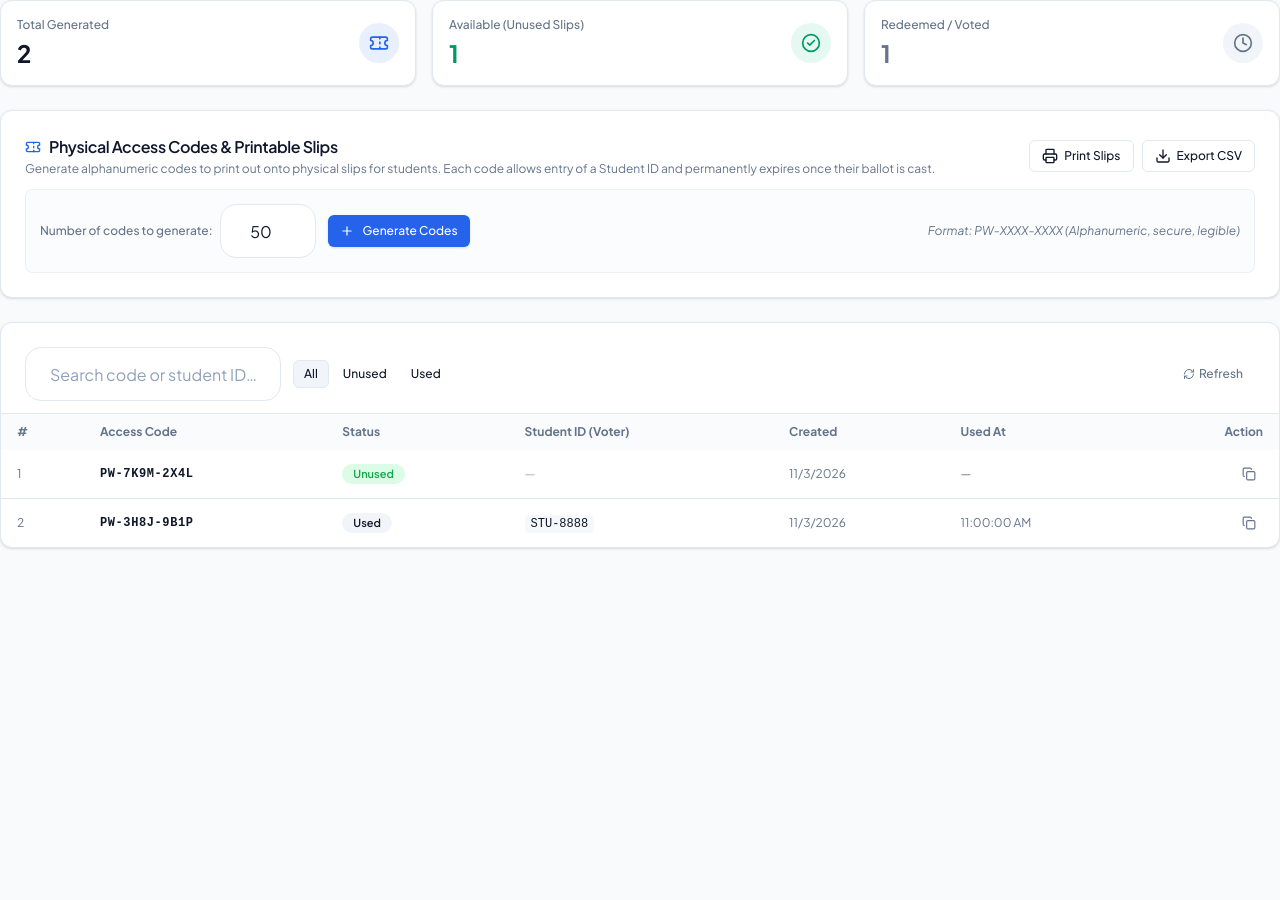
Test: Physical Access Code & Student ID Voting Suite › AccessCodeManager displays metrics, generates codes, and opens printable slips modal
The width and height of the screenshot is (1280, 900).
Expected: the text "Total Generated" is shown, [17,17,109,33]
Expected: the text "PW-7K9M-2X4L" is shown, [84,450,326,498]
# Open Printable Slips Modal
Click the button "Print Slips": coordinates (1081, 156) [1029,140,1134,172]
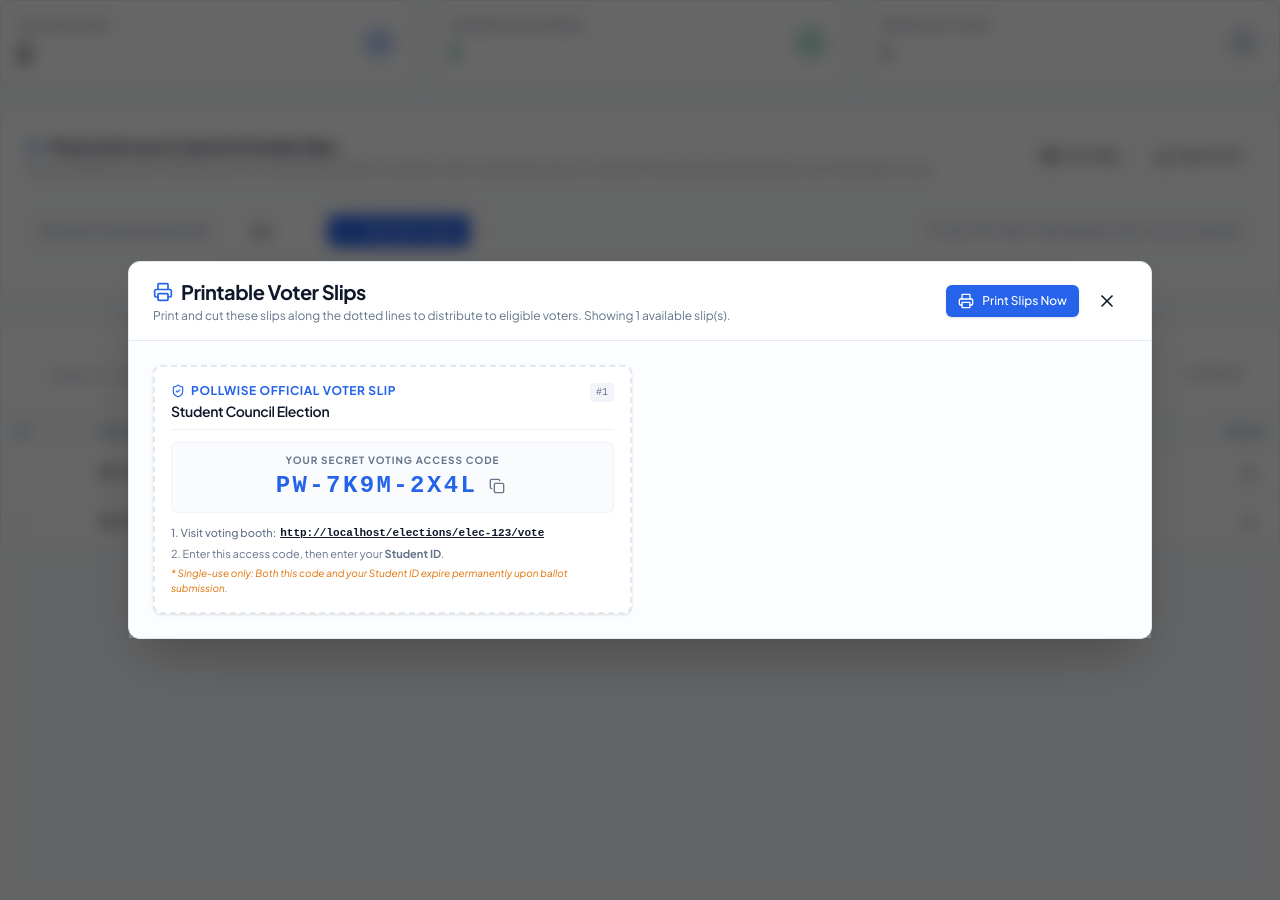
Expected: the heading "Printable Voter Slips" is shown, [153,279,366,304]
Expected: the button "Print Slips Now" is shown, [946,285,1079,317]
Expected: the text "PollWise Official Voter Slip" is shown, [171,383,396,399]
